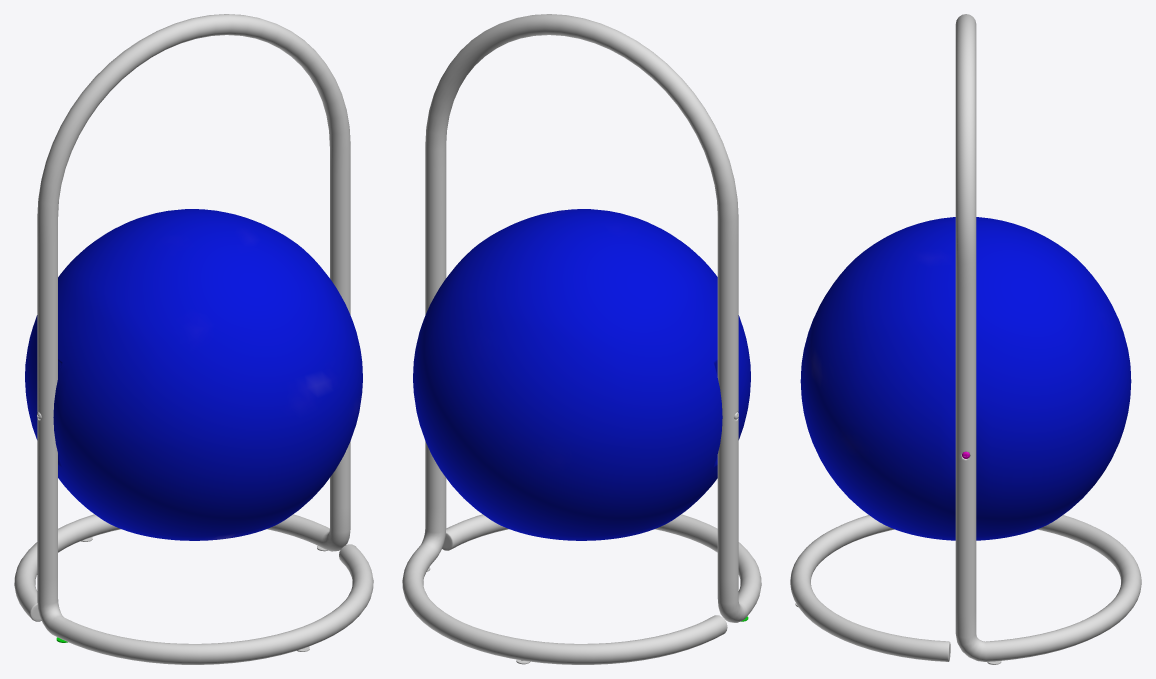
The model's file is lamp2.fbx.
The picture shows the model from 3 angles, left to right: view 1: azimuth 30°, elevation 25°; view 2: azimuth 150°, elevation 25°; view 3: azimuth 270°, elevation 25°; orthographic projection. The views are drawn at different scales.
Parts seen in each view (by area): view 1: light, polySurface1; view 2: light, polySurface1; view 3: light, polySurface1.
Part boxes in pixels (x1,y1,x2,y2): light: (25, 209, 362, 540); polySurface1: (14, 14, 373, 664); light: (413, 209, 750, 540); polySurface1: (402, 14, 761, 664); light: (800, 217, 1131, 540); polySurface1: (790, 14, 1141, 661).
Size of the model in its own units: 17.08 by 30.04 by 17.02.
